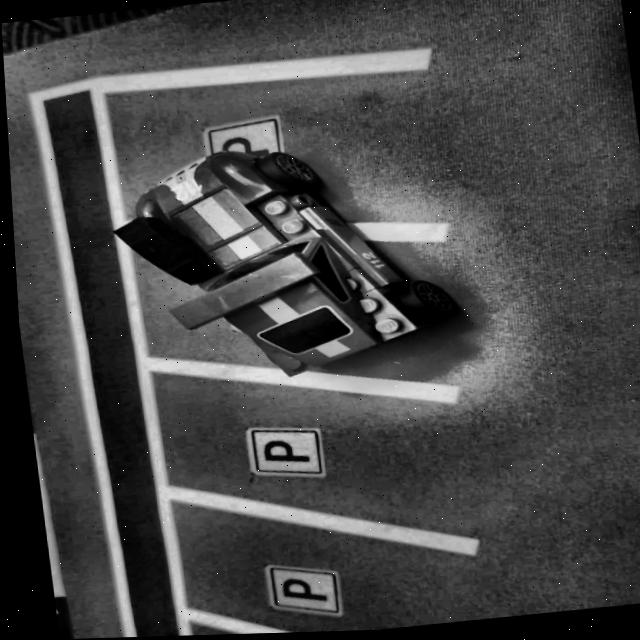car: (100, 131, 461, 393)
